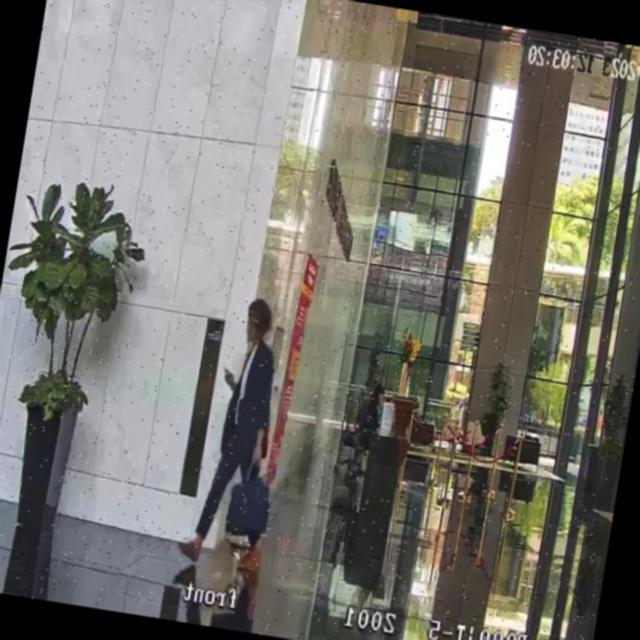person: (176, 292, 292, 570), (358, 381, 387, 447)
